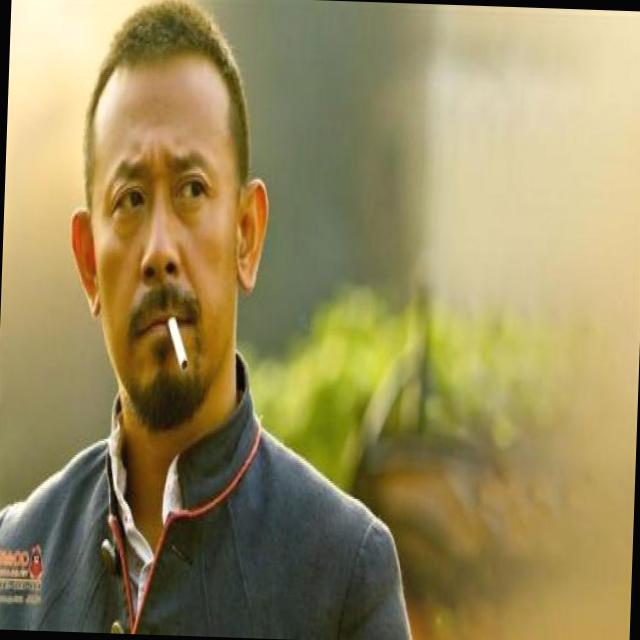smoke: (164, 300, 194, 378)
